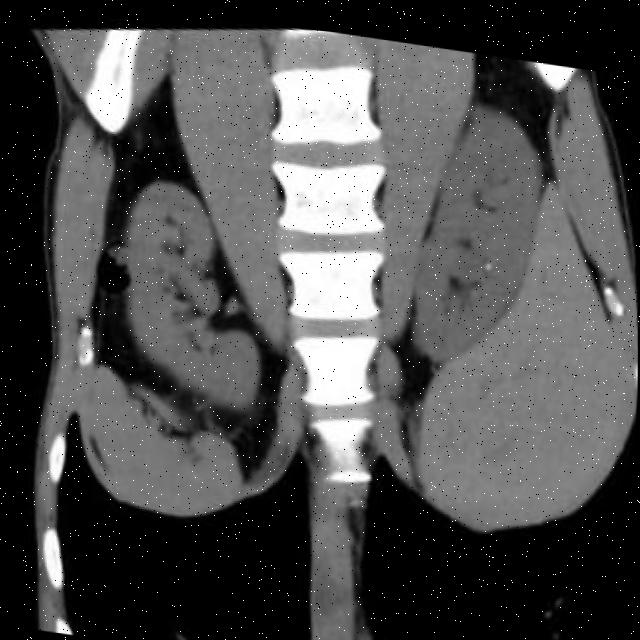Tas_Var: (482, 249, 494, 269)
